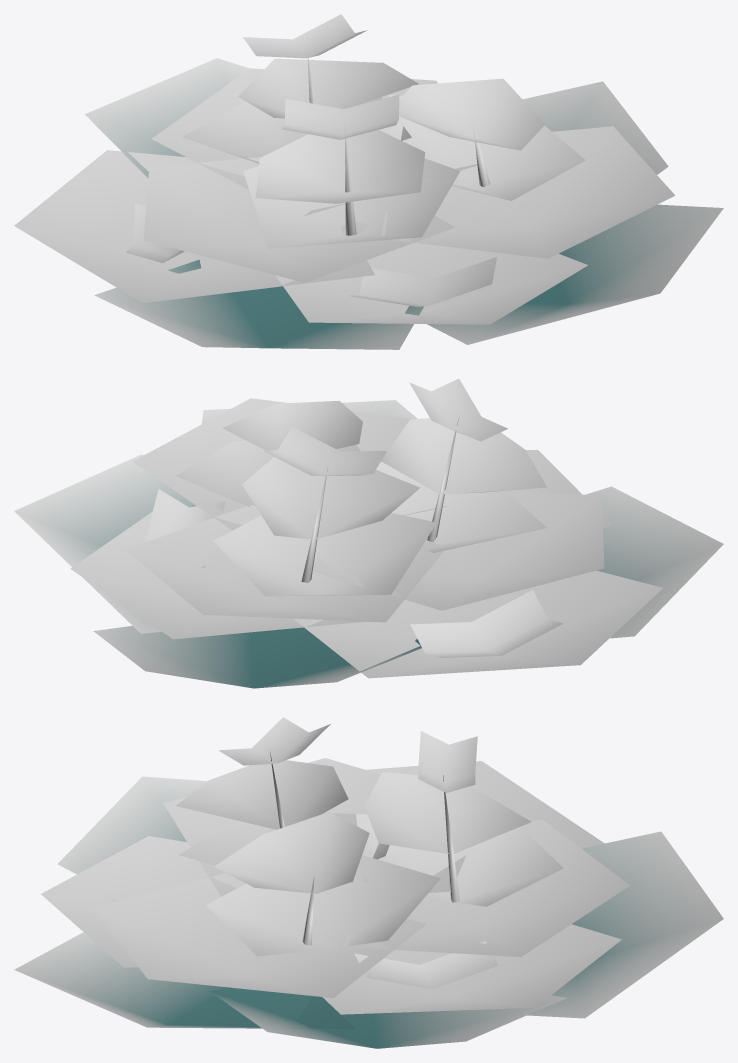
File: clover.glb
The picture shows the model from 3 angles, top to bottom: view 1: azimuth 30°, elevation 25°; view 2: azimuth 150°, elevation 25°; view 3: azimuth 270°, elevation 25°; orthographic projection. The views are drawn at different scales.
Visible parts, largest first — view 1: clover; view 2: clover; view 3: clover.
Boxes of the visible parts, x1,y1,x2,y2 form: clover: (14, 14, 723, 349); clover: (14, 378, 723, 688); clover: (14, 717, 723, 1048).
Bounding box in the file's own units: 1.31 × 0.4439 × 1.36.
